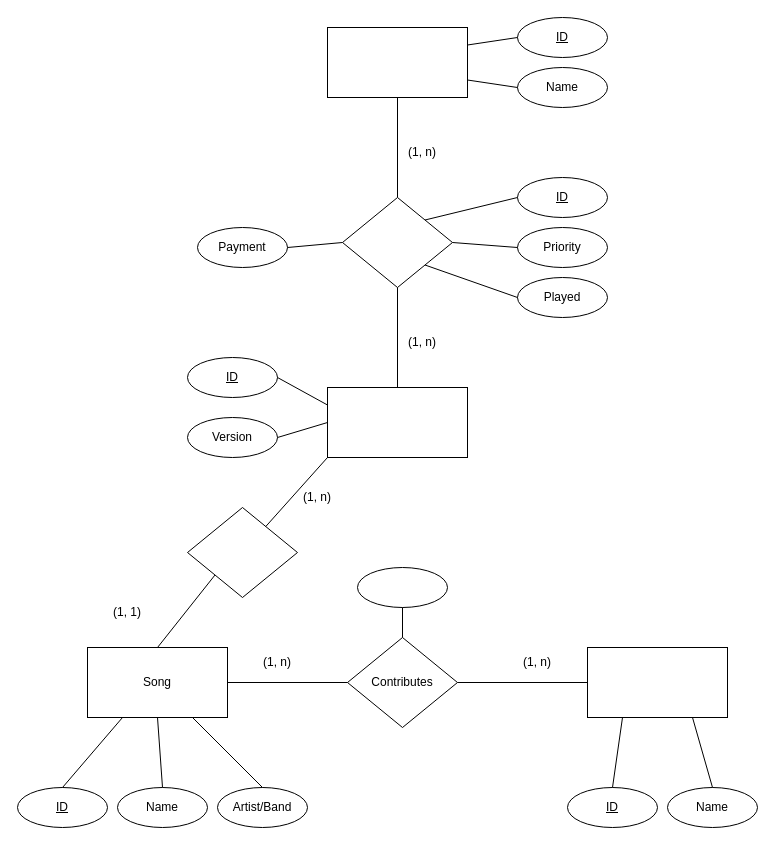
The diagram is 775 pixels wide and 845 high, and some of its shapes have lost their labels. Here are the shapes that lost their labels. From the top down, the centre of each, then its label:
At pixel 397 62: "User".
At pixel 397 242: "Queue".
At pixel 397 422: "File".
At pixel 242 552: "Has".
At pixel 402 587: "Role".
At pixel 657 682: "Contributor".
